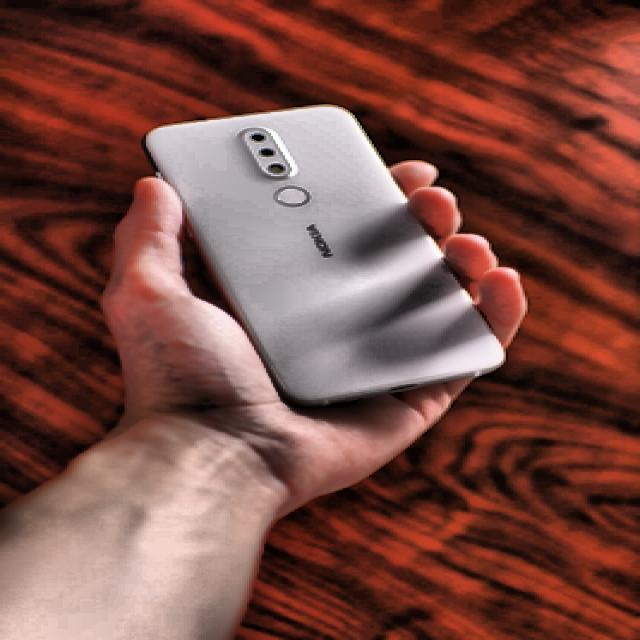Phone: (144, 105, 506, 408)
